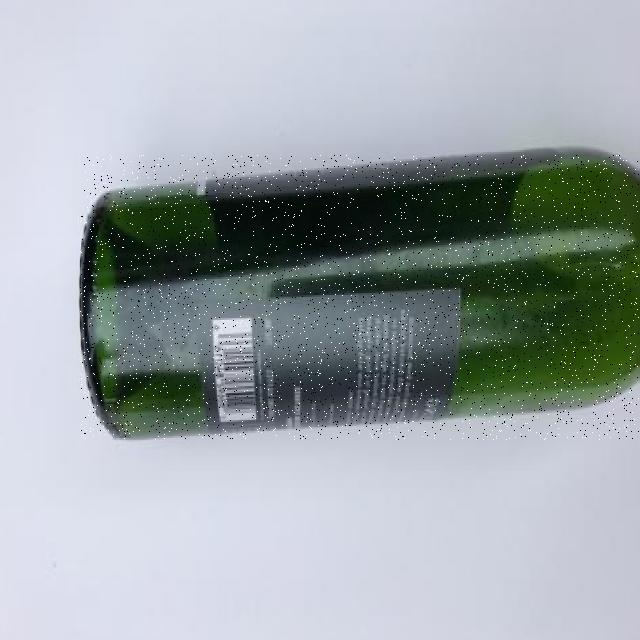glass: (81, 155, 639, 439)
